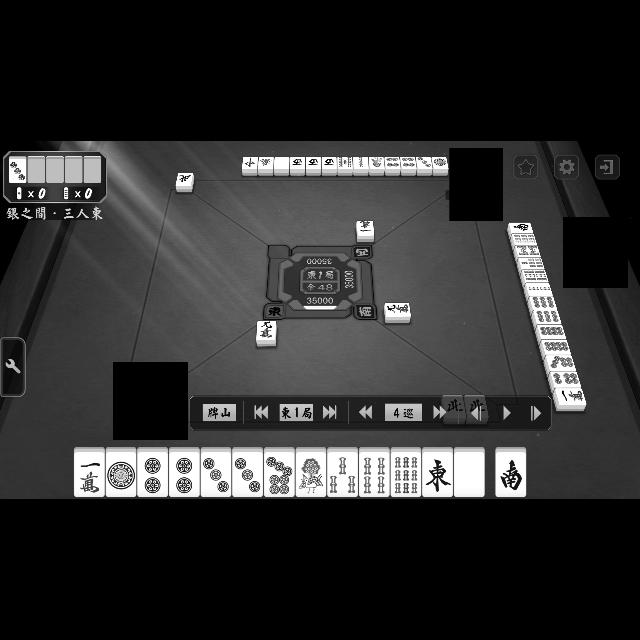1m: (74, 453, 104, 497), (554, 391, 588, 411), (358, 220, 374, 236)
1p: (106, 452, 136, 496), (432, 156, 448, 177)
1s: (296, 452, 326, 496), (367, 154, 383, 176)
2p: (170, 453, 200, 497), (139, 453, 167, 497)
2s: (524, 284, 554, 296), (355, 156, 369, 177)
3p: (233, 452, 263, 498), (202, 453, 232, 497), (9, 156, 27, 184), (416, 153, 432, 174)
3s: (328, 452, 358, 498)
4p: (399, 155, 417, 177), (384, 155, 400, 175)
4s: (361, 454, 389, 496)
5s: (338, 156, 352, 177)
6p: (548, 373, 582, 389)
6s: (518, 270, 548, 284)
7p: (265, 452, 295, 498), (544, 355, 576, 371)
7s: (516, 257, 546, 271)
8p: (539, 340, 573, 356), (534, 324, 568, 338)
8s: (515, 245, 541, 257)
9m: (257, 320, 275, 340), (386, 302, 410, 316)
9p: (529, 310, 563, 326), (526, 296, 560, 310)
9s: (391, 452, 421, 496), (510, 232, 538, 244)
chun: (242, 157, 258, 176)
haku: (455, 454, 483, 496), (274, 155, 290, 177)
hatsu: (258, 156, 274, 177)
nan: (497, 454, 525, 496), (508, 220, 534, 233)
pe: (176, 172, 194, 192)
sha: (422, 452, 452, 496), (305, 155, 321, 175), (291, 156, 305, 176), (323, 156, 337, 174)
